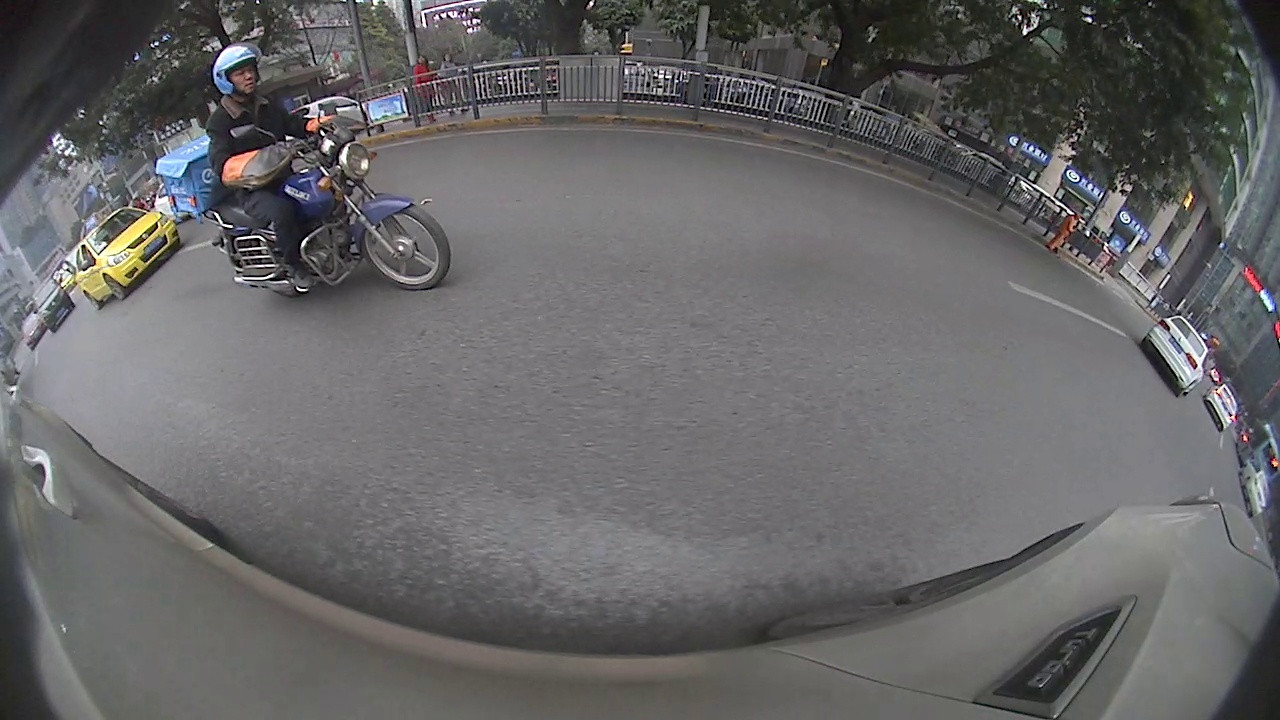car: (73, 206, 183, 311), (1140, 314, 1210, 398)
front: (358, 198, 452, 291), (102, 273, 128, 302)
rider: (154, 41, 453, 300)
